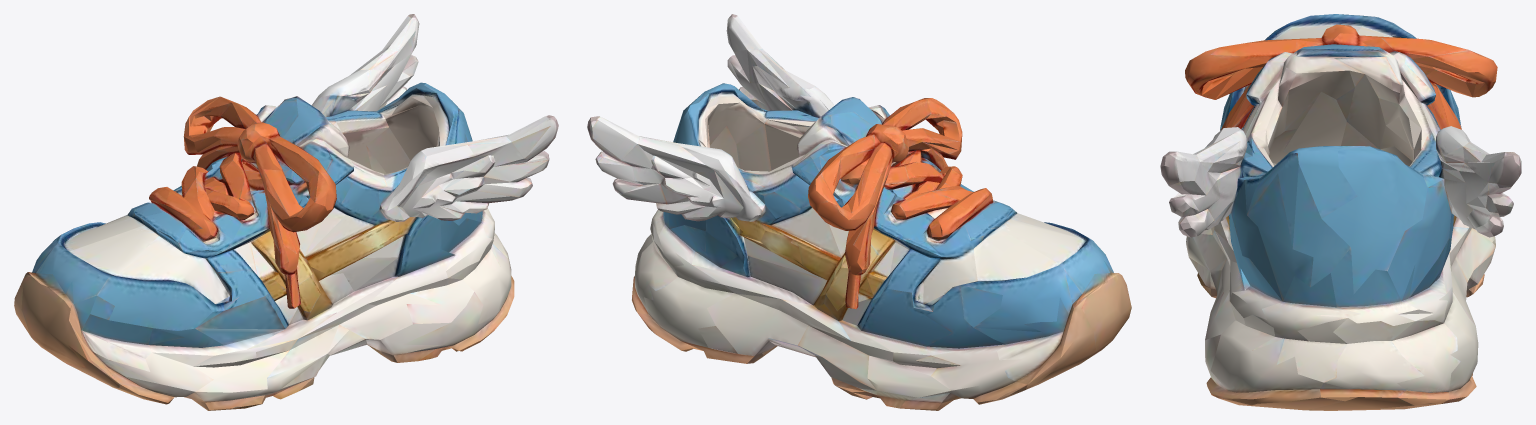
File: winged-shoe.glb
3 renders of one model, left to right at view 1: azimuth 30°, elevation 25°; view 2: azimuth 150°, elevation 25°; view 3: azimuth 270°, elevation 25°, orthographic. The views are drawn at different scales.
Bounding box in the file's own units: 1.9 × 0.9106 × 1.05.
1 material, 1 textured.
